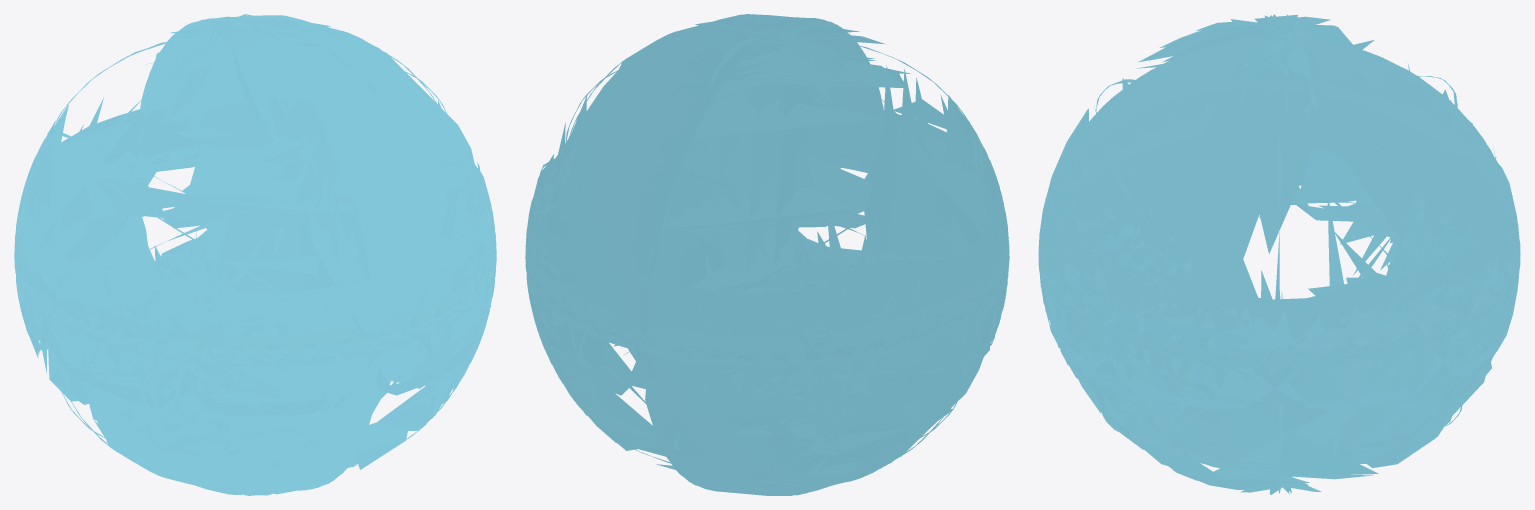
The model's file is tower.glb.
3 renders of one model, left to right at view 1: azimuth 30°, elevation 25°; view 2: azimuth 150°, elevation 25°; view 3: azimuth 270°, elevation 25°, orthographic.
Parts seen in each view (by area): view 1: bridge_tower; view 2: bridge_tower; view 3: bridge_tower.
Part boxes in pixels (x1,y1,x2,y2): bridge_tower: (14, 14, 496, 495); bridge_tower: (525, 14, 1009, 495); bridge_tower: (1038, 14, 1520, 494).
Size of the model in its own units: 2 by 2 by 2.
